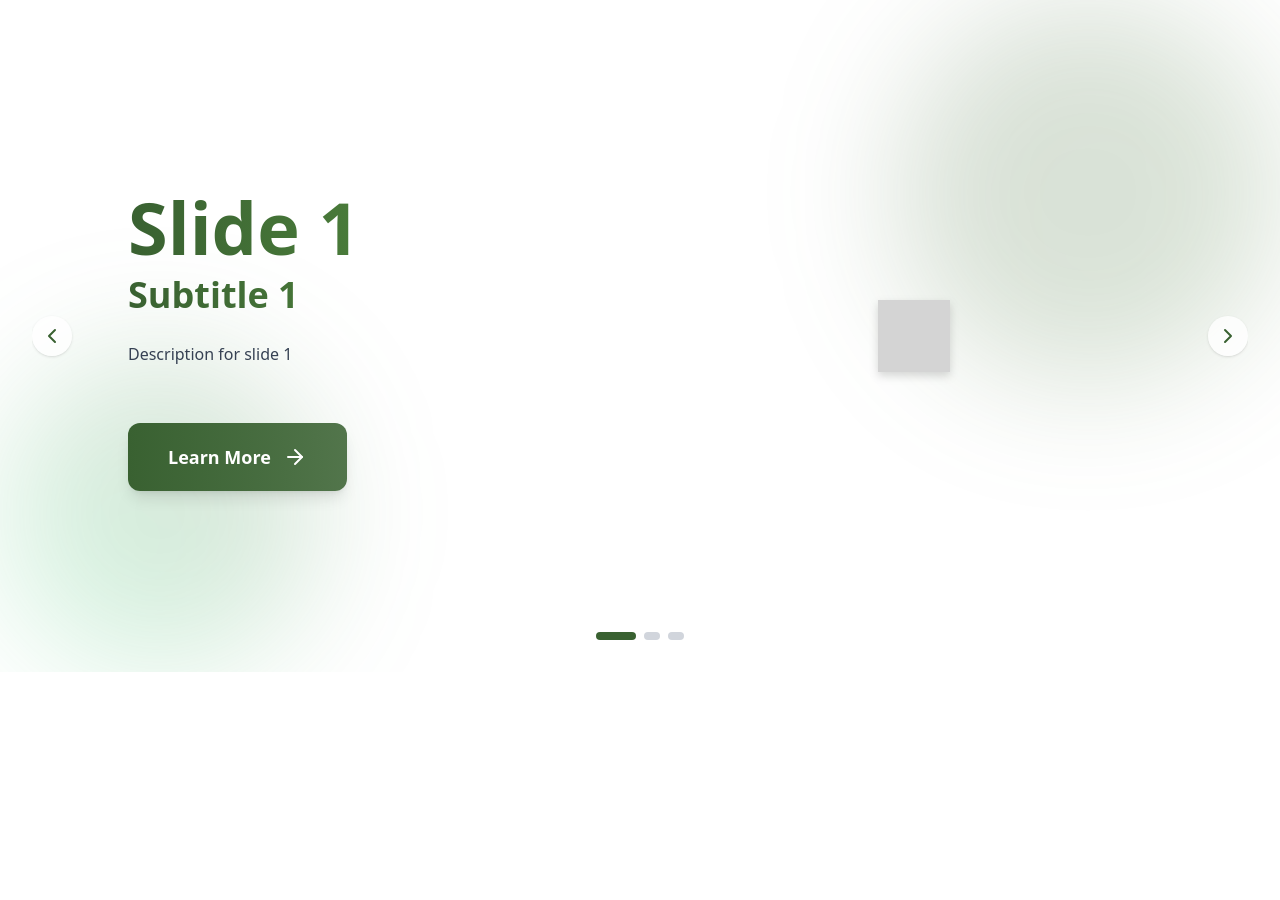
Test case: CarouselSection Component › Navigation › moves to previous slide when previous button clicked
What coordinates should you click on to do the following:
click the button named "previous"
I would click on:
 (52, 336)
Its box is top-left (32, 316), bottom-right (72, 356).
Wait 600 ms
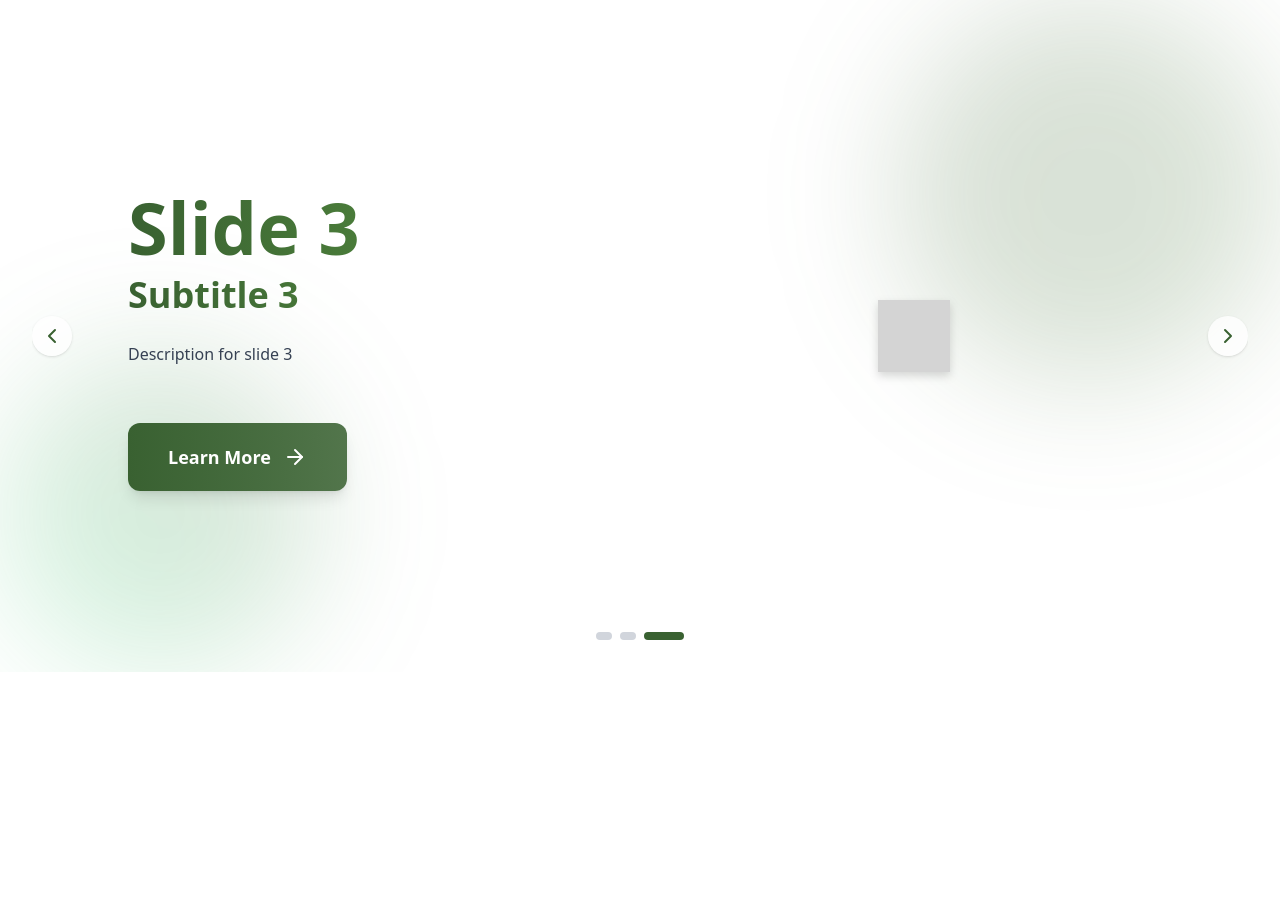
Check: the text "Slide 3" is shown, box top-left (128, 182), bottom-right (604, 272)
